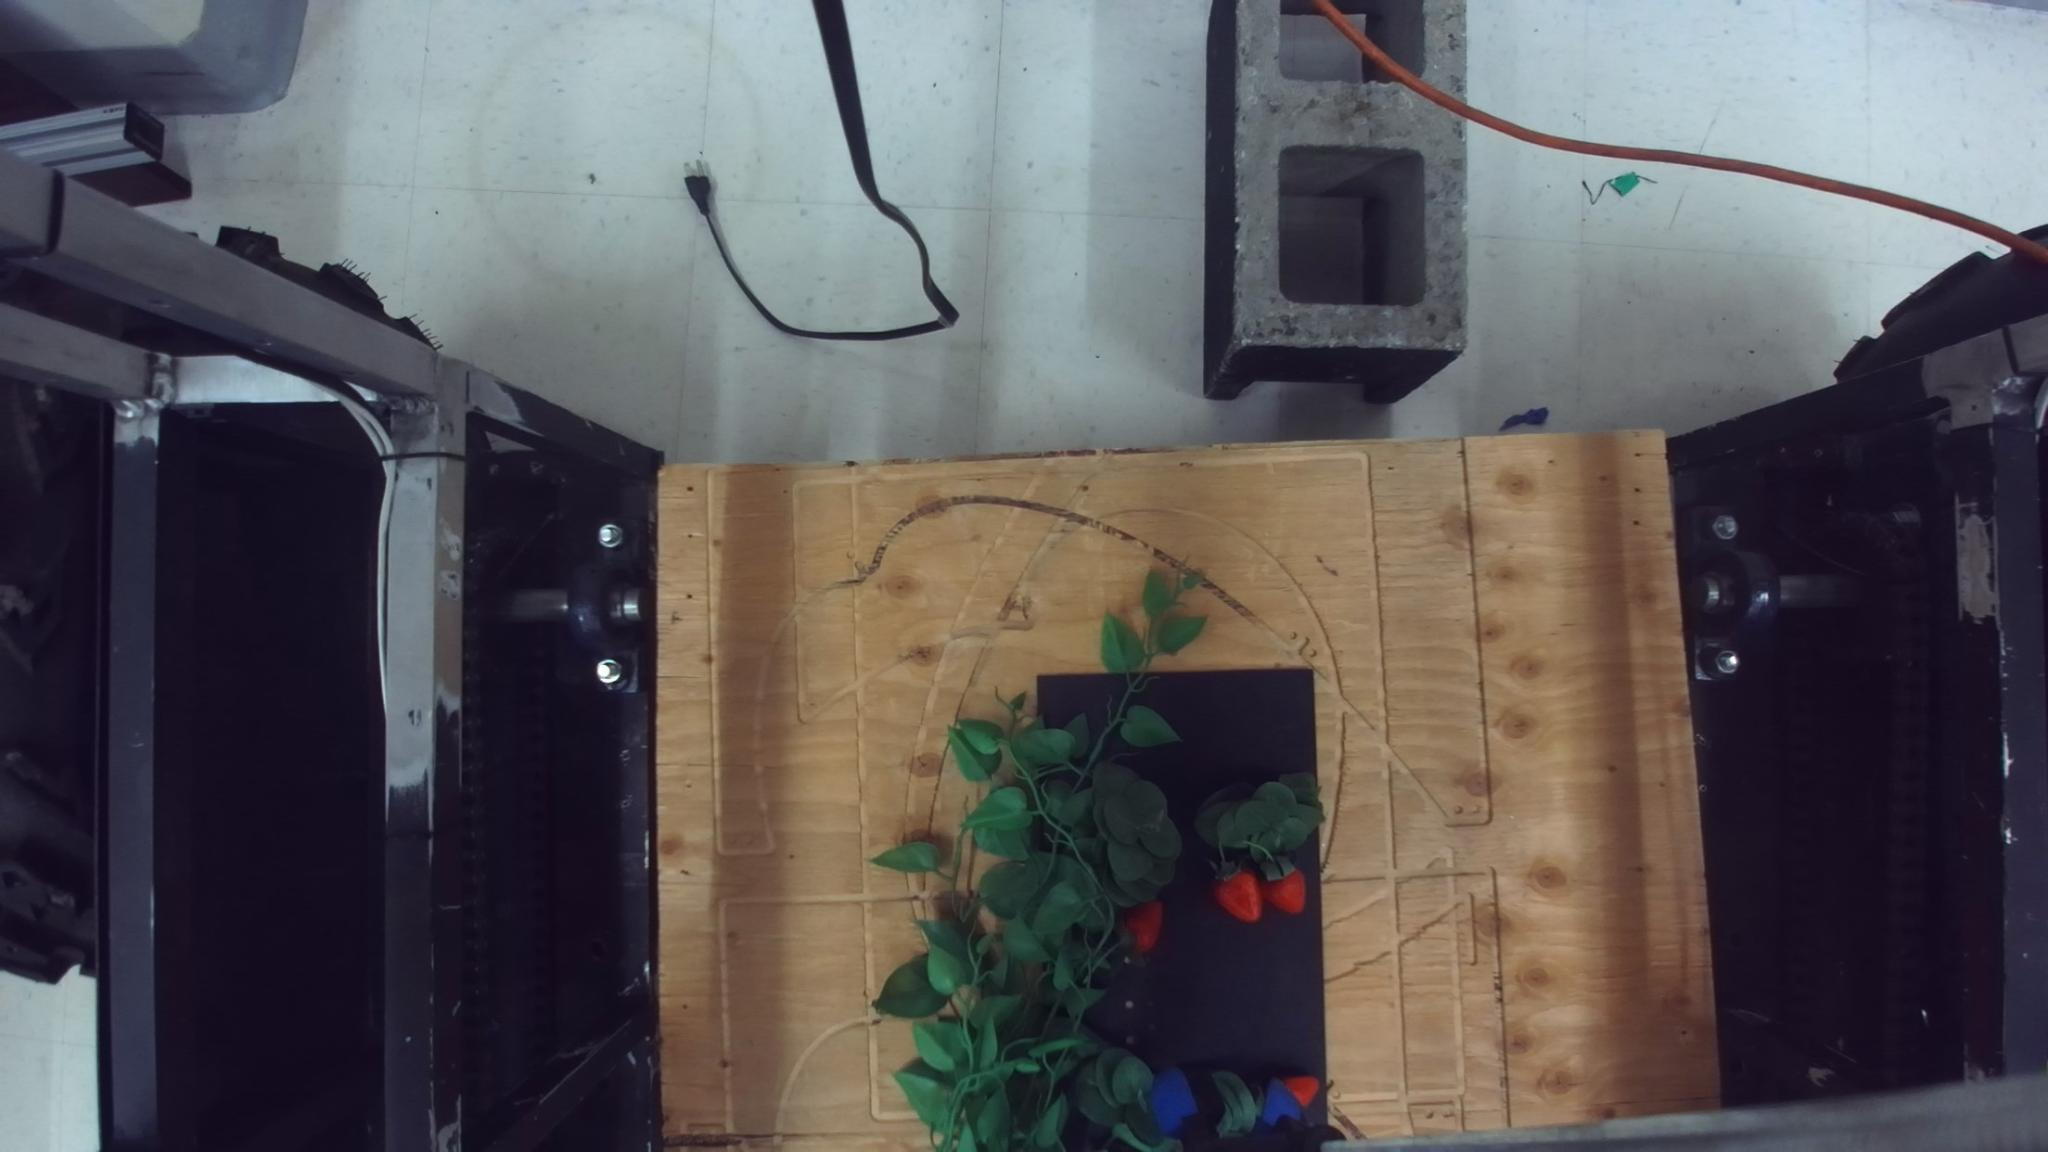mature: (1212, 866, 1262, 923), (1122, 899, 1165, 955), (1263, 865, 1305, 916), (1281, 1075, 1319, 1107)
